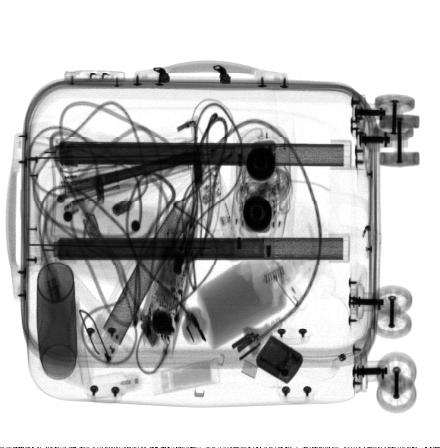Lighter: (256, 335, 304, 384)
